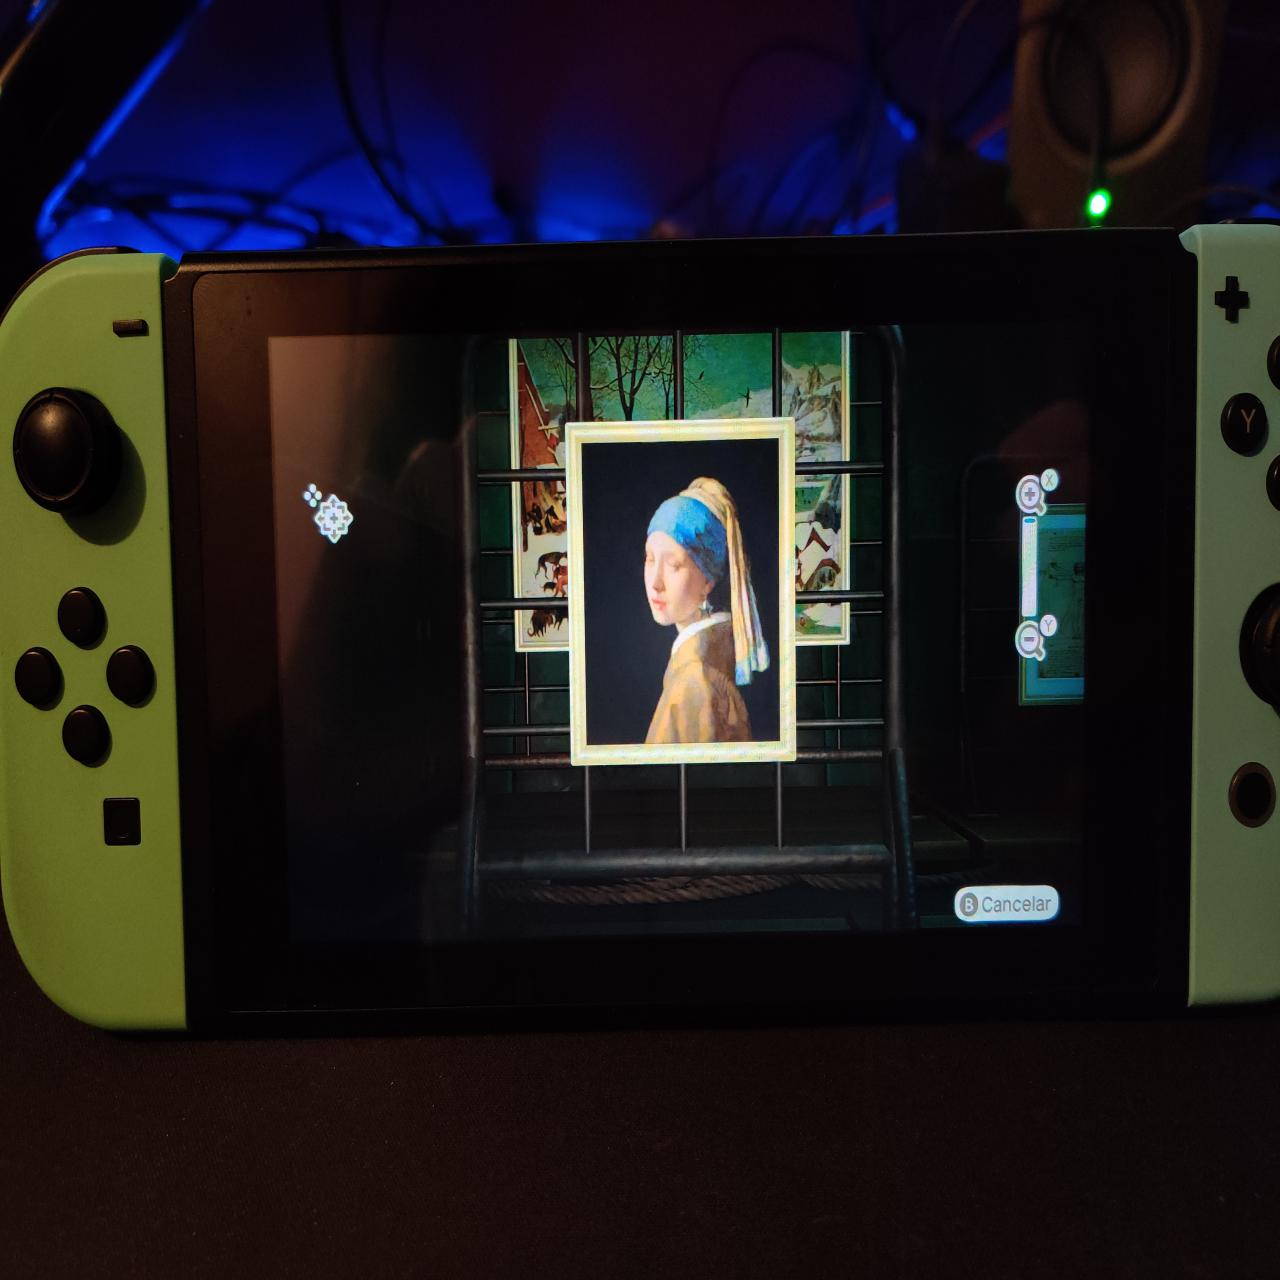PearlEarringFake: (584, 443, 787, 745)
